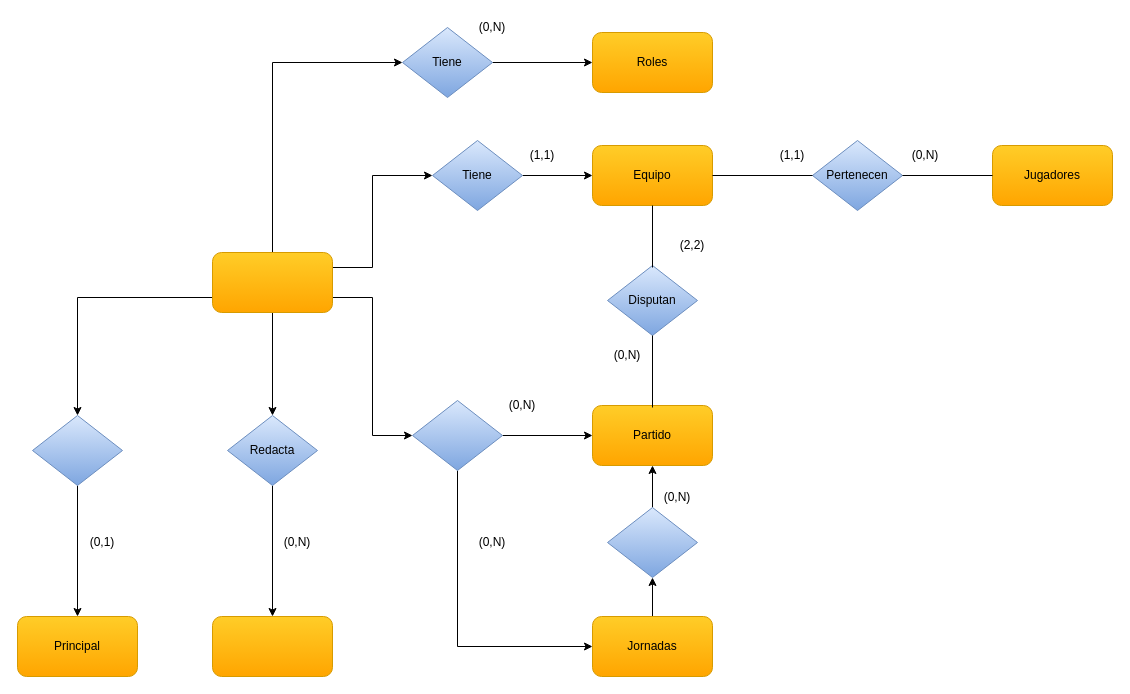
Some shapes in this 1130 by 694 pixel diagram are drawn without their labels. The box of each missing label's shape, as (x1, y1, x2, y2) in pixels:
Contienen: (606, 506, 698, 578)
Crea: (412, 400, 502, 470)
Maneja: (32, 414, 122, 486)
Noticias: (212, 616, 332, 676)
Usuario: (212, 252, 332, 312)
